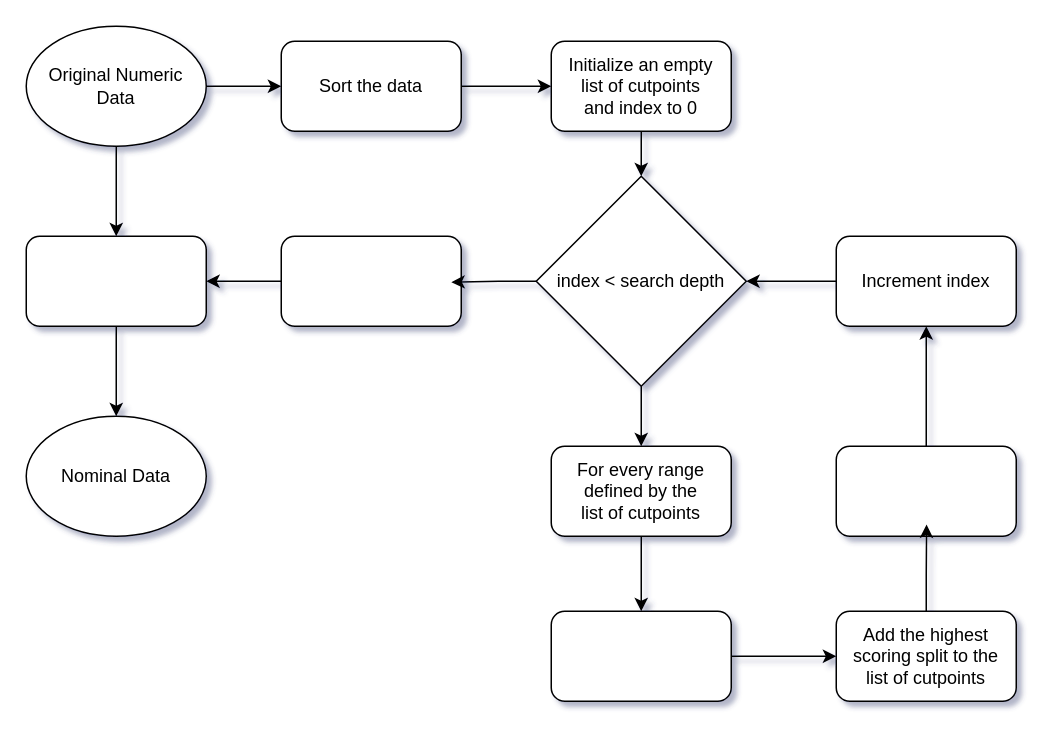
This 1052x737 diagram has some shape labels left out. The centre of each missing label's shape, as x and y in pixels:
"Assign a unique value to all ranges defined by the list of cutpoints" goes at point (370, 280).
"Score all splits at the mean of consecutive values" goes at point (640, 655).
"Sort the list of cutpoints" goes at point (925, 490).
"Transform the numeric data" goes at point (115, 280).
